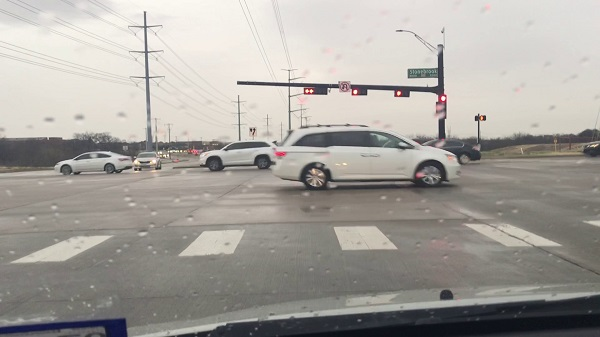car: (274, 126, 459, 189), (197, 141, 273, 168), (54, 151, 131, 171), (423, 138, 481, 163), (132, 151, 160, 168)
